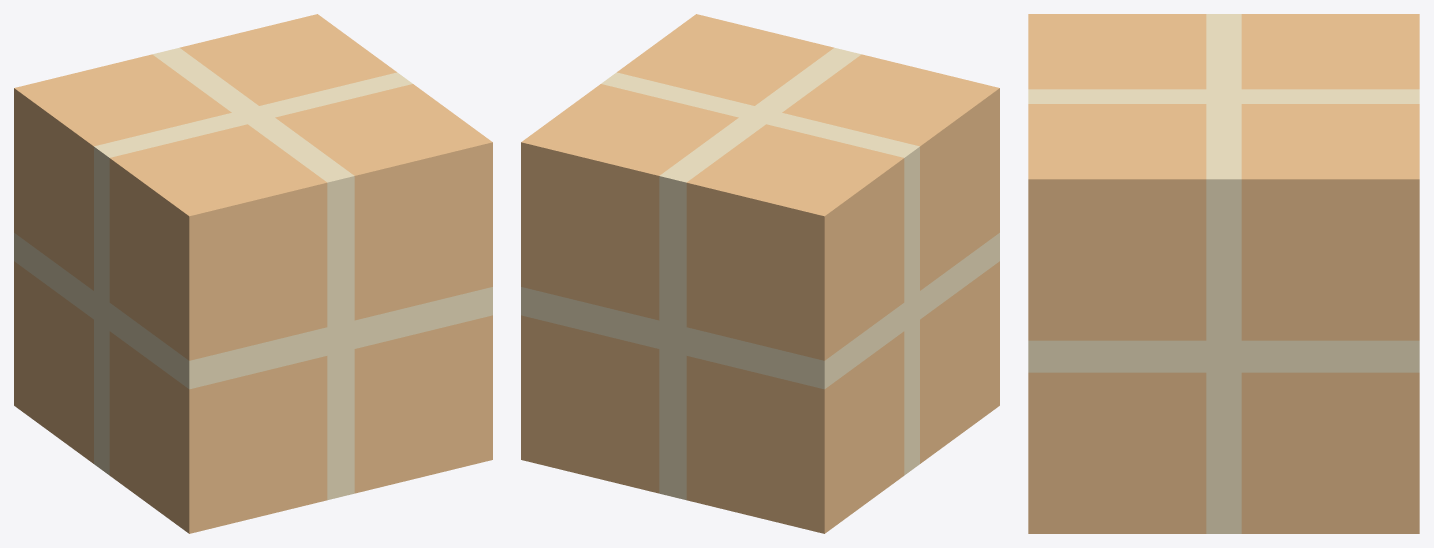
3 renders of one model, left to right at view 1: azimuth 30°, elevation 25°; view 2: azimuth 150°, elevation 25°; view 3: azimuth 270°, elevation 25°, orthographic. The views are drawn at different scales.
Visible parts, largest first — view 1: Box_3; view 2: Box_3; view 3: Box_3.
Part boxes in pixels (x1=…): Box_3: x1=14, y1=14, x2=492, y2=533; Box_3: x1=521, y1=14, x2=999, y2=533; Box_3: x1=1028, y1=14, x2=1419, y2=533.
Bounding box in the file's own units: 65.15 × 65.15 × 65.15.
1 material, 1 textured.
